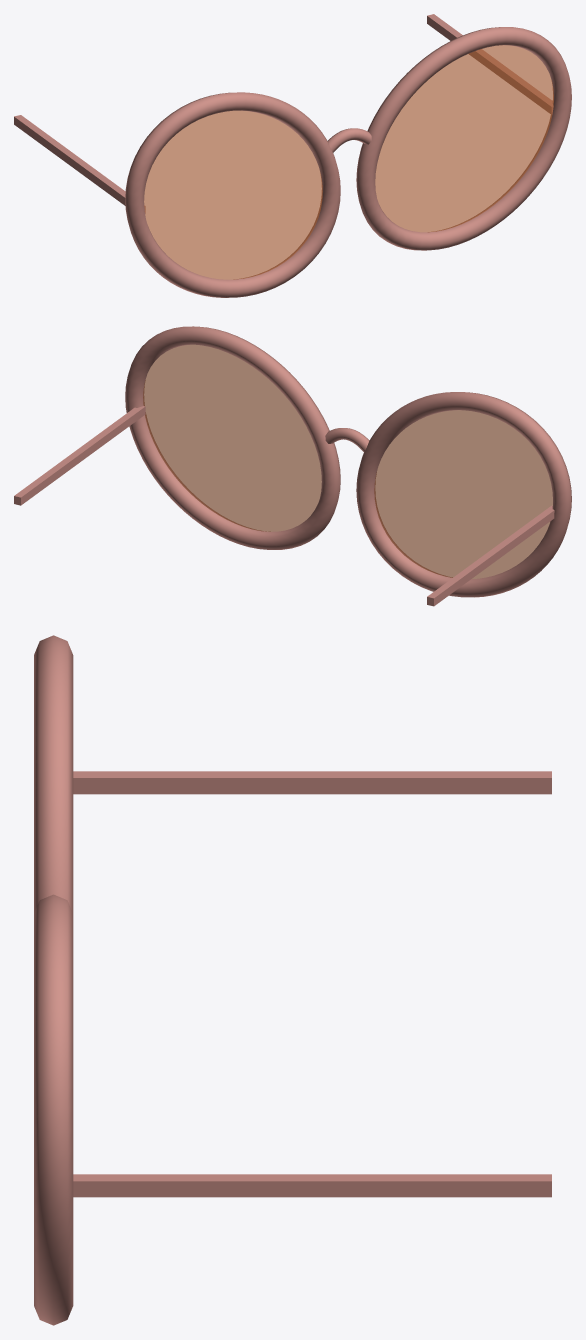
Rendered from rose.glb.
3 renders of one model, top to bottom at view 1: azimuth 30°, elevation 25°; view 2: azimuth 150°, elevation 25°; view 3: azimuth 270°, elevation 25°, orthographic. The views are drawn at different scales.
Parts seen in each view (by area): view 1: lens (×2), object 4, object 1, object 3, object 6, object 7; view 2: lens (×2), object 4, object 1, object 6, object 3, object 7; view 3: object 4, object 3, object 6, object 1.
Boxes of the visible parts, x1,y1,x2,y2 form: lens (×2): [144, 45, 553, 279]; object 4: [356, 27, 571, 250]; object 1: [125, 92, 340, 297]; object 3: [14, 115, 145, 213]; object 6: [427, 14, 553, 114]; object 7: [328, 128, 371, 152]; lens (×2): [143, 344, 552, 578]; object 4: [125, 326, 340, 549]; object 1: [356, 392, 571, 597]; object 6: [14, 406, 145, 505]; object 3: [427, 505, 554, 606]; object 7: [325, 428, 369, 452]; object 4: [34, 894, 73, 1325]; object 3: [73, 771, 551, 794]; object 6: [73, 1174, 551, 1197]; object 1: [34, 635, 73, 913].
Bounding box in the file's own units: 2.89 × 1.29 × 1.45.
